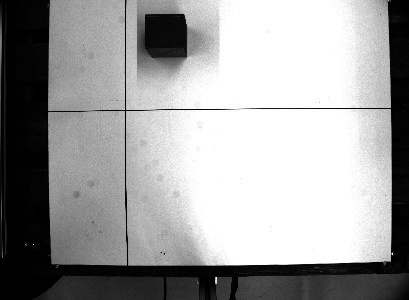b7: (141, 11, 191, 61)
